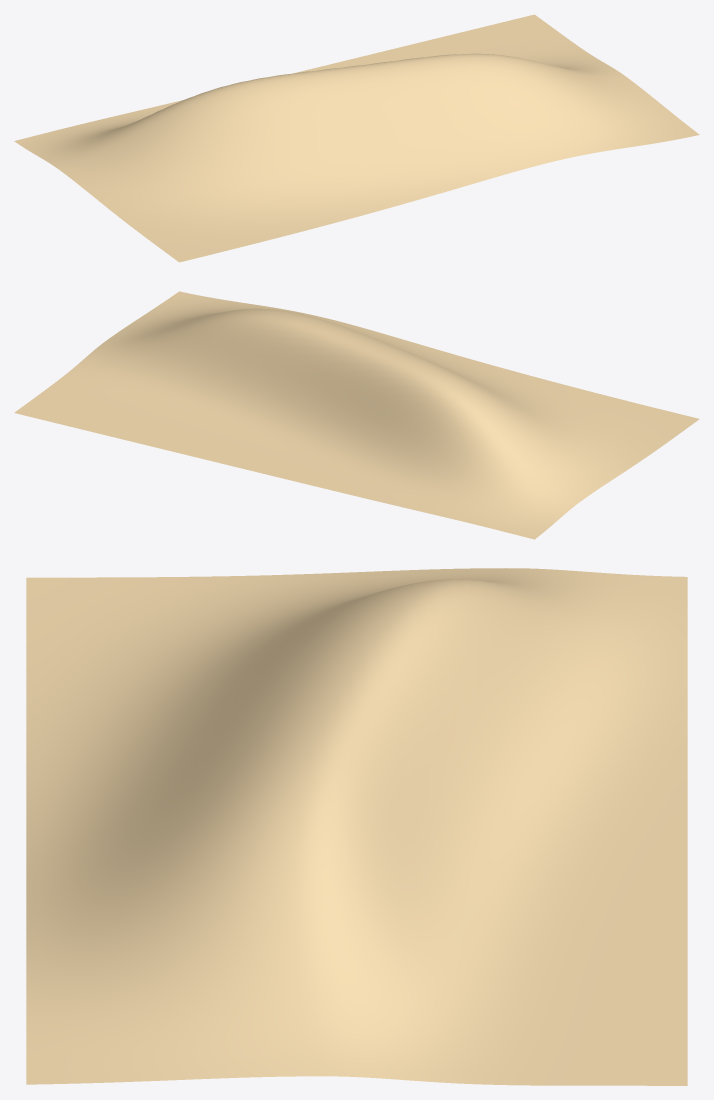
The model's file is SandDune.glb.
The picture shows the model from 3 angles, top to bottom: view 1: azimuth 30°, elevation 25°; view 2: azimuth 150°, elevation 25°; view 3: azimuth 270°, elevation 25°; orthographic projection. The views are drawn at different scales.
Parts seen in each view (by area): view 1: Dune; view 2: Dune; view 3: Dune.
Boxes of the visible parts, left/top/right/bottom form: Dune: left=14, top=14, right=699, bottom=262; Dune: left=14, top=291, right=699, bottom=539; Dune: left=26, top=568, right=687, bottom=1085.
Bounding box in the file's own units: 200 × 26 × 110.
